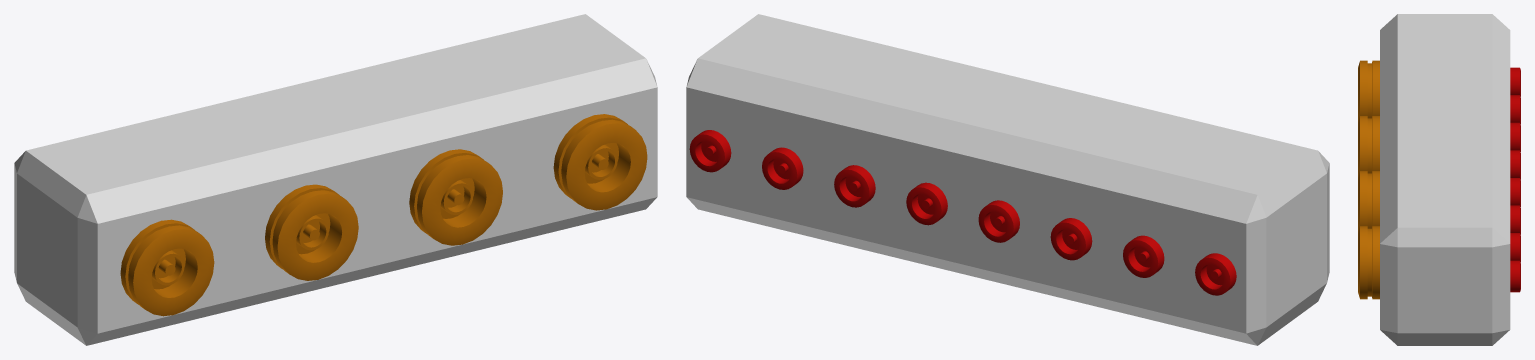
Rendered from PowerDistributor.gltf.
The picture shows the model from 3 angles, left to right: view 1: azimuth 30°, elevation 25°; view 2: azimuth 150°, elevation 25°; view 3: azimuth 270°, elevation 25°; orthographic projection. The views are drawn at different scales.
Visible parts, largest first — view 1: bar; view 2: bar; view 3: bar.
Part boxes in pixels (<box>): bar: <box>14,14,657,345</box>; bar: <box>686,14,1329,345</box>; bar: <box>1358,14,1520,345</box>.
Bounding box in the file's own units: 1 × 0.25 × 0.3121.
